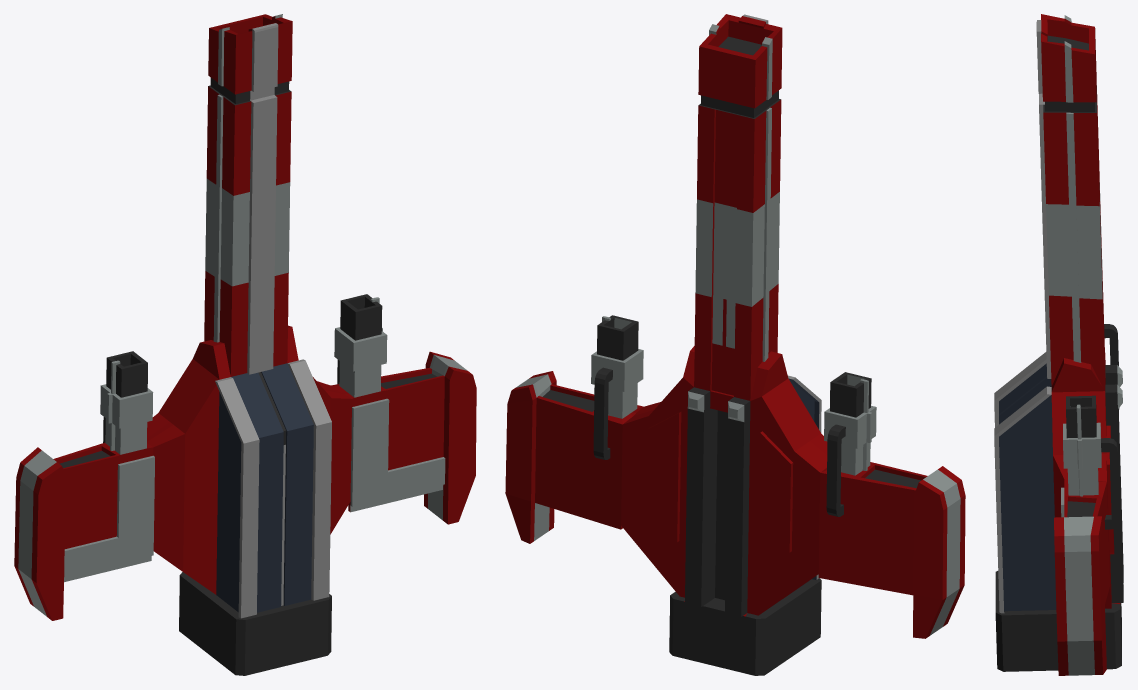
Rendered from spaceship.glb.
3 views of the same model, side by side, from view 1: azimuth 30°, elevation 25°; view 2: azimuth 150°, elevation 25°; view 3: azimuth 270°, elevation 25° (orthographic).
Parts seen in each view (by area): view 1: Cube; view 2: Cube; view 3: Cube.
Boxes of the visible parts, box(x1,y1,x2,y2) form: Cube: box(14, 14, 476, 675); Cube: box(505, 14, 965, 675); Cube: box(994, 14, 1123, 675).
Size of the model in its own units: 1.47 by 2 by 0.3772.
